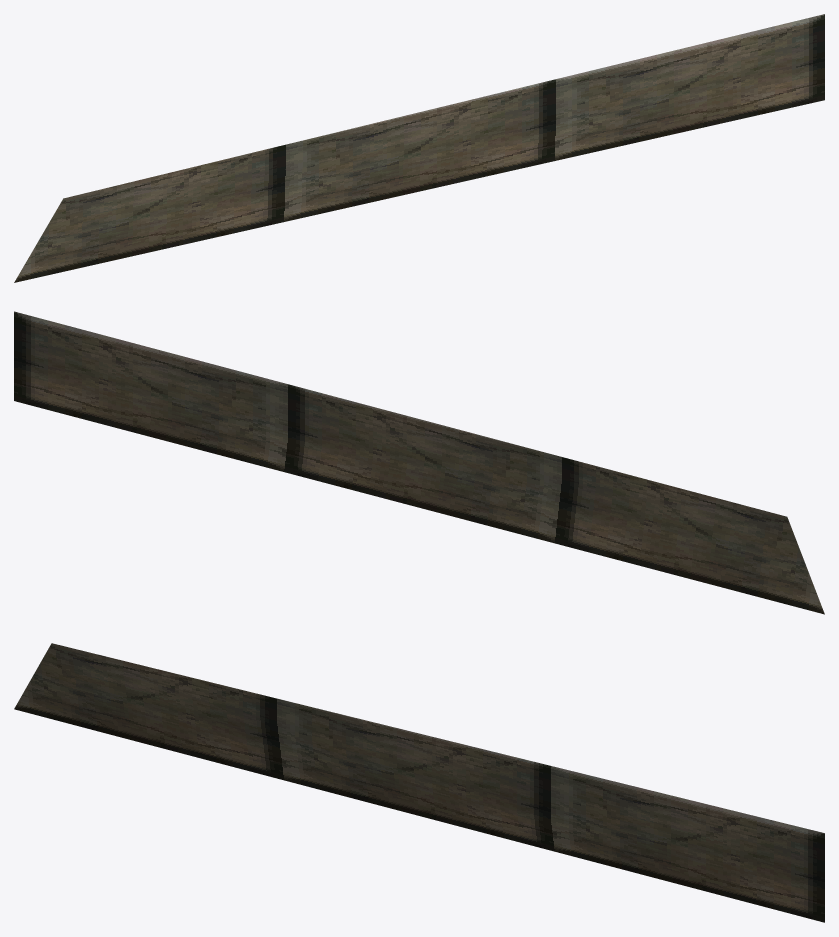
Rendered from CH09_SMAUG_PLAYSURFACE_LAIR122.fbx.
The picture shows the model from 3 angles, top to bottom: view 1: azimuth 30°, elevation 25°; view 2: azimuth 150°, elevation 25°; view 3: azimuth 330°, elevation 25°; orthographic projection. The views are drawn at different scales.
Visible parts, largest first — view 1: CH09_SMAUG_PLAYSURFACE_LAIR122; view 2: CH09_SMAUG_PLAYSURFACE_LAIR122; view 3: CH09_SMAUG_PLAYSURFACE_LAIR122.
Part boxes in pixels (x1=…): CH09_SMAUG_PLAYSURFACE_LAIR122: x1=14, y1=14, x2=824, y2=282; CH09_SMAUG_PLAYSURFACE_LAIR122: x1=14, y1=311, x2=824, y2=614; CH09_SMAUG_PLAYSURFACE_LAIR122: x1=14, y1=643, x2=824, y2=922.
Size of the model in its own units: 58975 by 6106 by 1986.
Materials: 1 (1 with a texture image).
